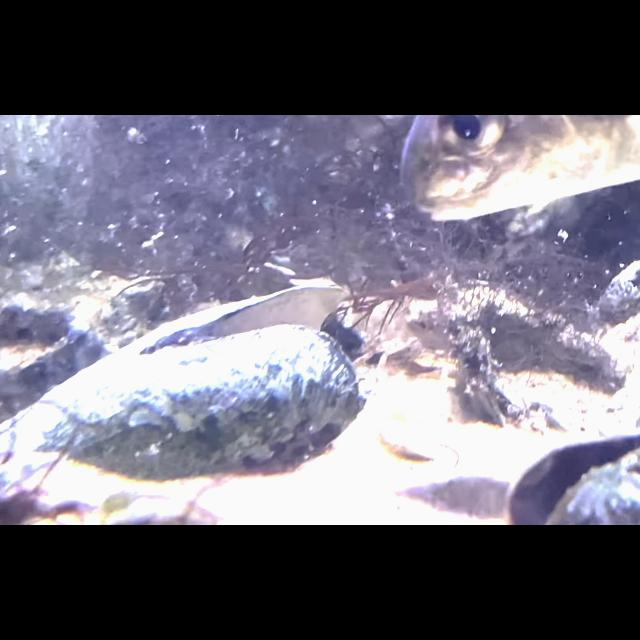Oyster-Closed: (590, 260, 640, 330)
Oyster-Open: (31, 278, 365, 486), (502, 433, 640, 525)
